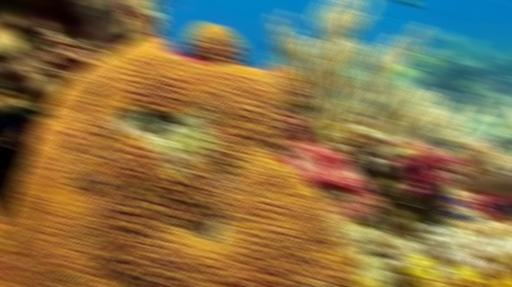Fish: (0, 105, 40, 137), (157, 0, 184, 10), (443, 210, 466, 219), (447, 197, 464, 208), (394, 0, 419, 7), (369, 98, 382, 109), (266, 45, 281, 53), (465, 214, 482, 221)
